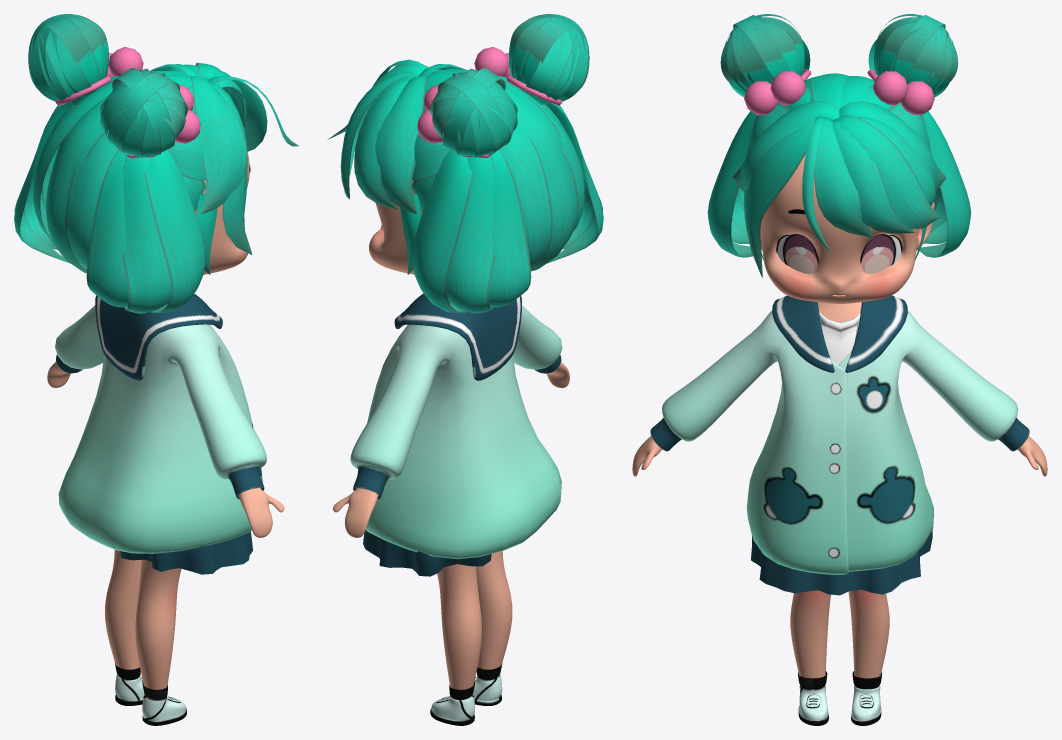
The model's file is cute_chibi_girl.glb.
3 views of the same model, side by side, from view 1: azimuth 30°, elevation 25°; view 2: azimuth 150°, elevation 25°; view 3: azimuth 270°, elevation 25° (orthographic).
Visible parts, largest first — view 1: character; view 2: character; view 3: character.
Part boxes in pixels (box(x1,y1,x2,y2)): character: box(14, 14, 298, 725); character: box(327, 14, 603, 725); character: box(632, 14, 1047, 725).
Bounding box in the file's own units: 1.71 × 4.49 × 2.5.
6 materials, 6 textured.
